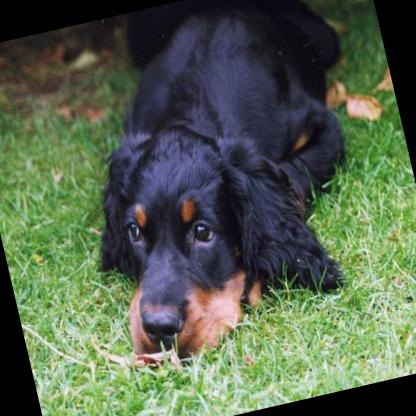Gordon_setter: (44, 0, 398, 371)
